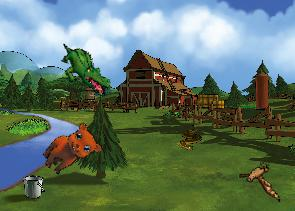bear: (37, 116, 106, 186)
crocodile: (50, 41, 119, 98)
eagle: (234, 156, 288, 202)
